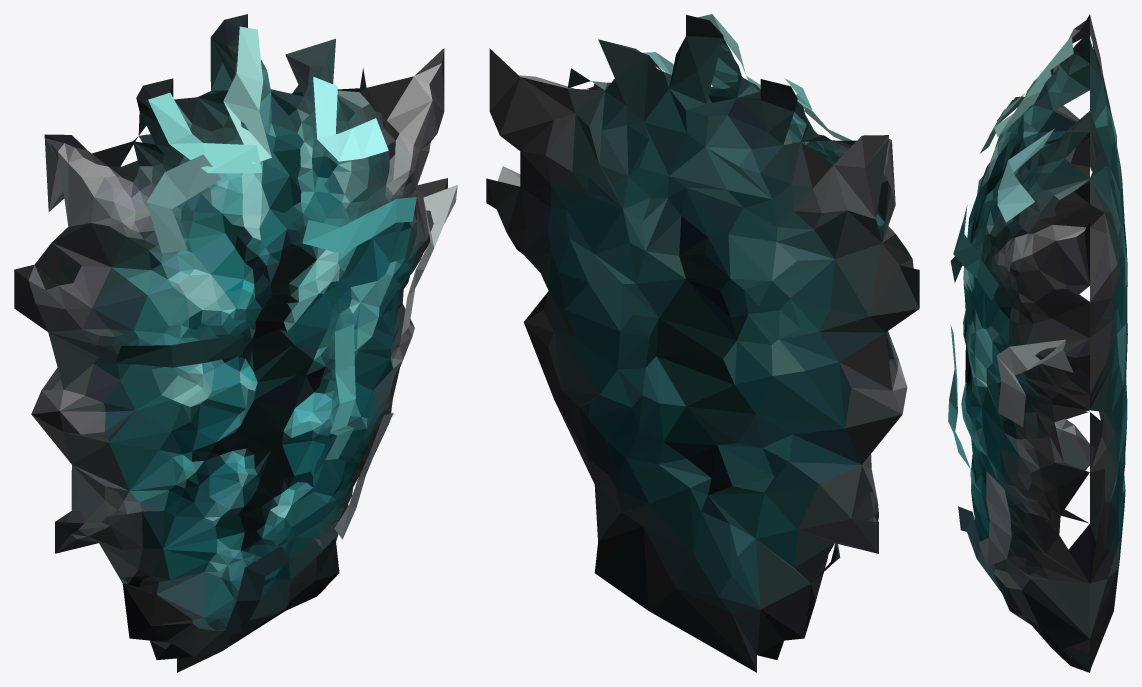
The picture shows the model from 3 angles, left to right: view 1: azimuth 30°, elevation 25°; view 2: azimuth 150°, elevation 25°; view 3: azimuth 270°, elevation 25°; orthographic projection.
Parts seen in each view (by area): view 1: object 2, detail; view 2: object 2, detail; view 3: object 2, detail.
Boxes of the visible parts, x1=… form: object 2: x1=14, y1=14, x2=447, y2=672; detail: x1=115, y1=26, x2=457, y2=636; object 2: x1=486, y1=14, x2=919, y2=672; detail: x1=497, y1=14, x2=851, y2=186; object 2: x1=961, y1=14, x2=1127, y2=672; detail: x1=948, y1=36, x2=1073, y2=592.
Bounding box in the file's own units: 128 × 181 × 45.62.
